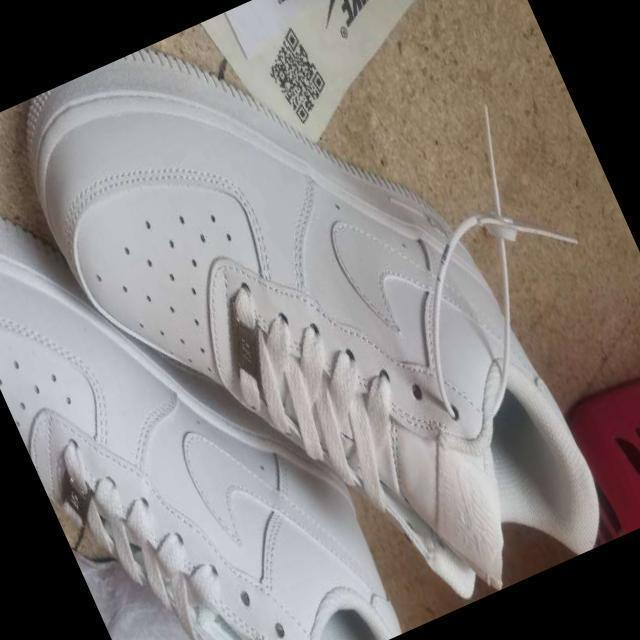nike original air force: (0, 0, 640, 640), (0, 60, 416, 640)
